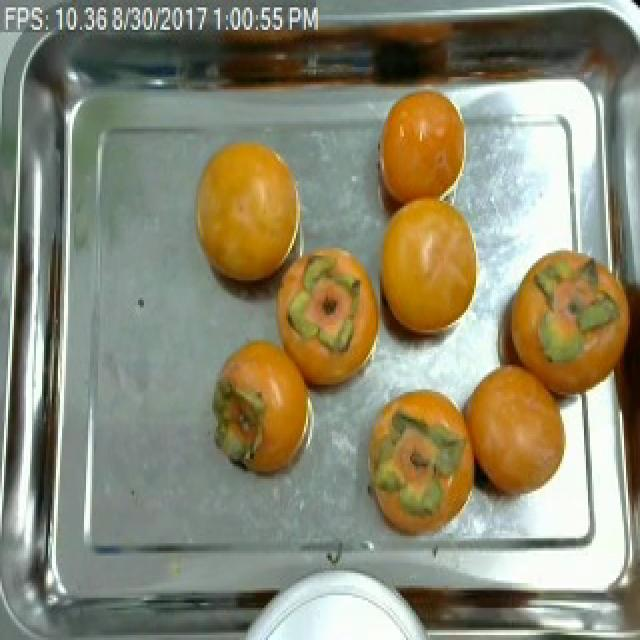Fruit: (484, 233, 636, 424), (352, 372, 494, 556), (374, 181, 492, 365), (266, 233, 382, 402), (456, 350, 576, 511), (188, 134, 308, 293), (206, 330, 316, 486), (366, 84, 476, 218)
